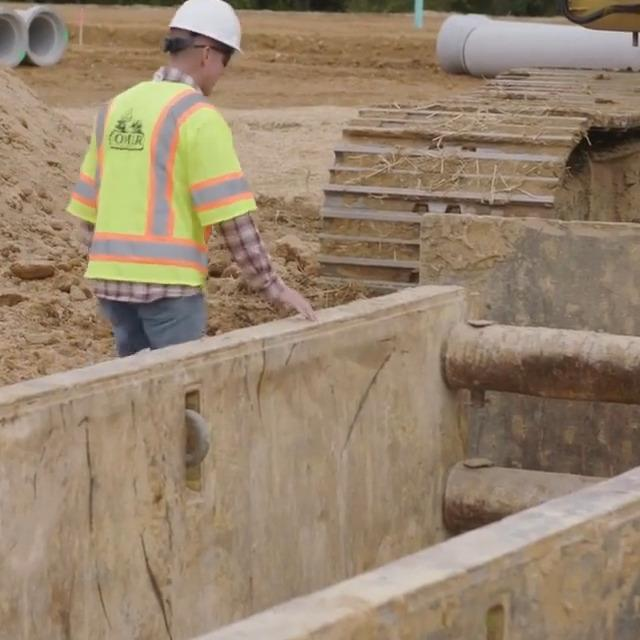Hardhat: (167, 0, 245, 52)
NO-Mask: (199, 64, 223, 95)
Person: (71, 0, 317, 353)
Safety Vest: (72, 89, 253, 270)
machinery: (318, 0, 640, 304)
